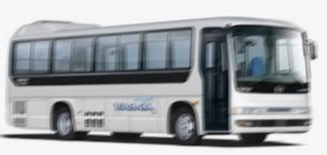bus: (10, 12, 317, 141)
